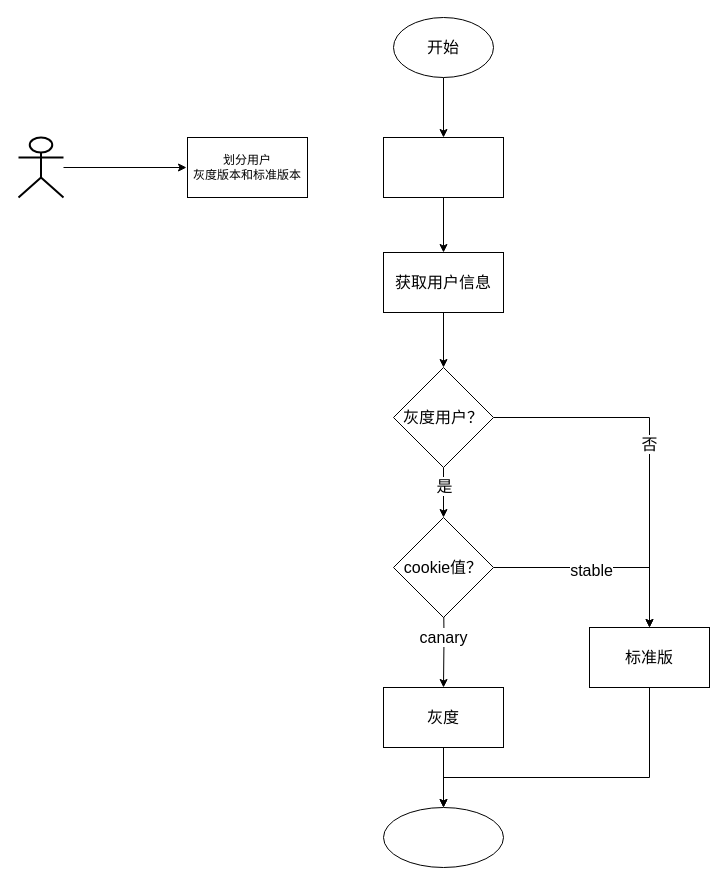
Image size: 727x885. Some labels were removed from this diagram. Here are the shapes that lost their labels. From the top down, the box of each, then its label:
(17, 136, 64, 198): 运维人员
(382, 136, 504, 198): 前端界面
(382, 806, 504, 868): 结束
